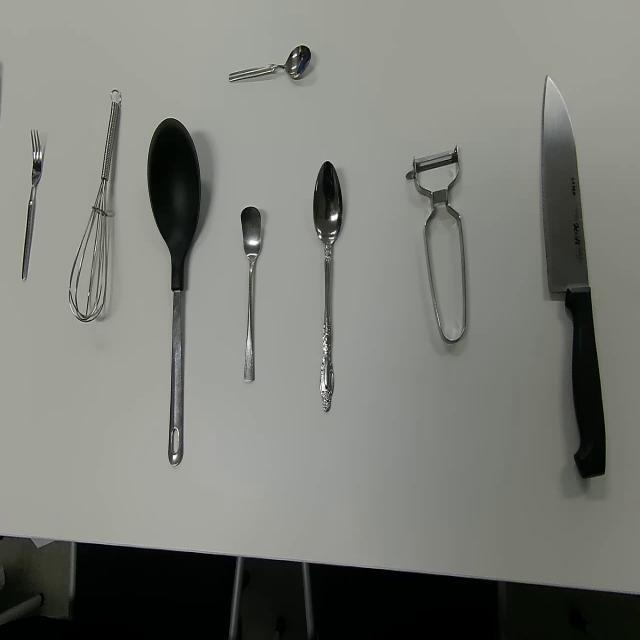Desert-Spoon: (312, 159, 343, 414)
Dinner-Fork: (20, 128, 42, 284)
Kitchen-Knife: (540, 74, 606, 480)
Peeler: (406, 144, 466, 343)
Serving-Spoon: (146, 116, 202, 469)
Tea-Spoon: (240, 205, 262, 384), (228, 43, 312, 84)
Whisk: (67, 88, 121, 323)
